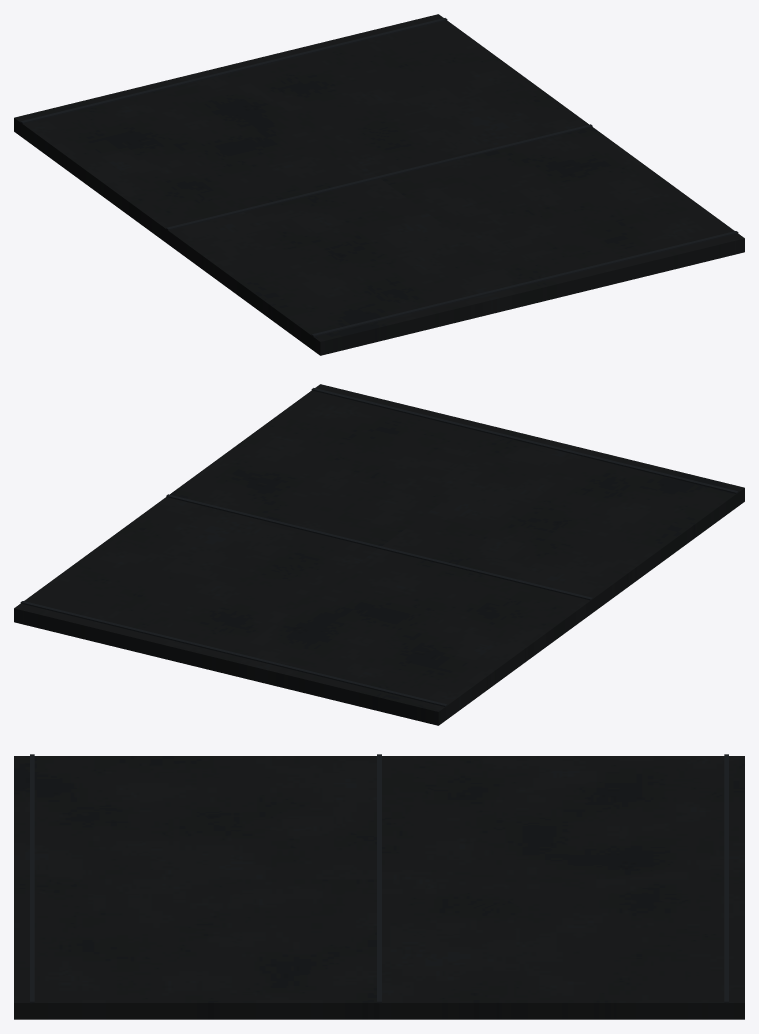
File: path-2m.glb
3 renders of one model, top to bottom at view 1: azimuth 30°, elevation 25°; view 2: azimuth 150°, elevation 25°; view 3: azimuth 270°, elevation 25°, orthographic. The views are drawn at different scales.
Visible parts, largest first — view 1: Path, Paving joint, Paving joint.001, Paving joint.002; view 2: Path, Paving joint, Paving joint.001, Paving joint.002; view 3: Path, Paving joint.001, Paving joint, Paving joint.002.
Part boxes in pixels (x1,y1,x2,y2): Path: (14, 14, 744, 355); Paving joint: (311, 231, 738, 336); Paving joint.001: (166, 124, 592, 230); Paving joint.002: (20, 18, 447, 123); Path: (14, 384, 744, 725); Paving joint: (311, 388, 738, 493); Paving joint.001: (166, 494, 592, 600); Paving joint.002: (20, 601, 447, 706); Path: (14, 756, 744, 1019); Paving joint.001: (377, 754, 381, 1003); Paving joint: (30, 754, 34, 1003); Paving joint.002: (724, 754, 728, 1002).
Size of the model in its own units: 1.6 by 0.0545 by 2.
Materials: 2 (1 with a texture image).
